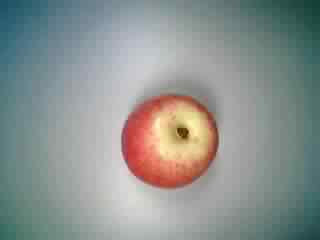apple: (118, 94, 224, 193)
